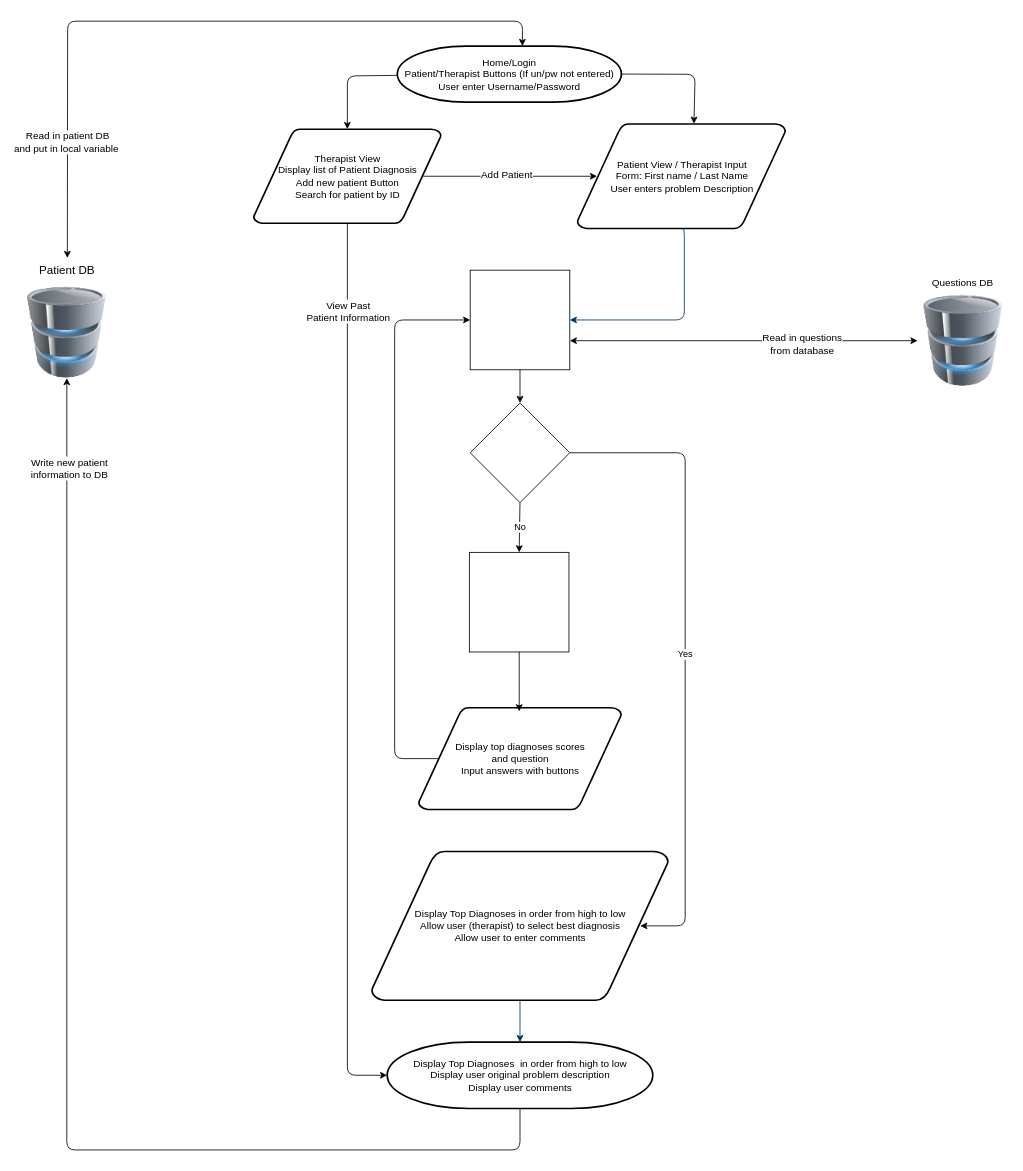
Some shapes in this 1023 by 1171 pixel diagram are drawn without their labels. The shapes that lost their labels are listed below. From the top down, each one's centre as x and y in pixels, then its label:
(519,319): Calculation Calculate Symptoms
(519,452): Are any diagnoses 50% or up?
(519,602): Calculate top Questions to Display
